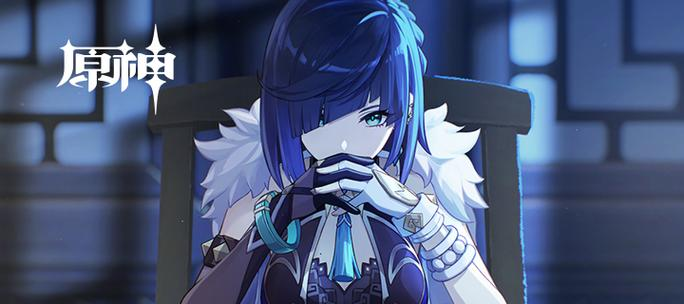夜兰: (182, 1, 508, 304)
